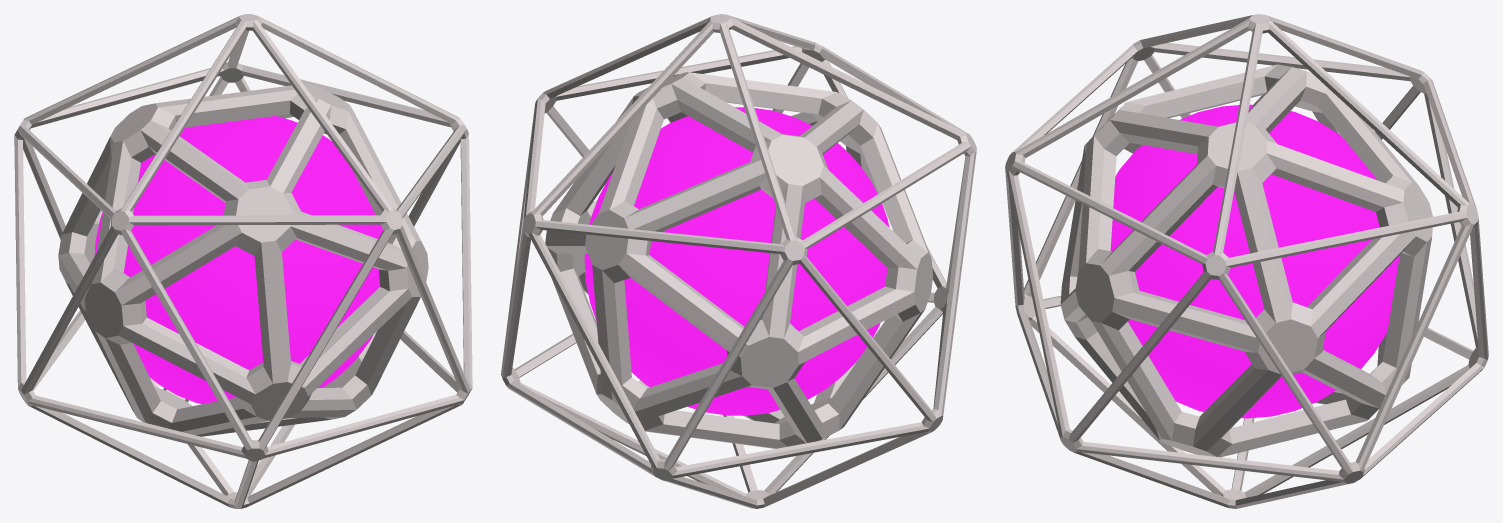
The picture shows the model from 3 angles, left to right: view 1: azimuth 30°, elevation 25°; view 2: azimuth 150°, elevation 25°; view 3: azimuth 270°, elevation 25°; orthographic projection. The views are drawn at different scales.
Parts seen in each view (by area): view 1: Icosphere, Icosphere.002, Icosphere.001; view 2: Icosphere, Icosphere.002, Icosphere.001; view 3: Icosphere, Icosphere.002, Icosphere.001.
Boxes of the visible parts, x1,y1,x2,y2 form: Icosphere: (58, 84, 428, 436); Icosphere.002: (14, 14, 472, 508); Icosphere.001: (94, 116, 383, 404); Icosphere: (545, 72, 932, 448); Icosphere.002: (501, 14, 976, 508); Icosphere.001: (584, 107, 889, 415); Icosphere: (1060, 64, 1432, 457); Icosphere.002: (1005, 14, 1488, 508); Icosphere.001: (1110, 104, 1399, 418).
Bounding box in the file's own units: 0.4477 × 0.4851 × 0.4266.
